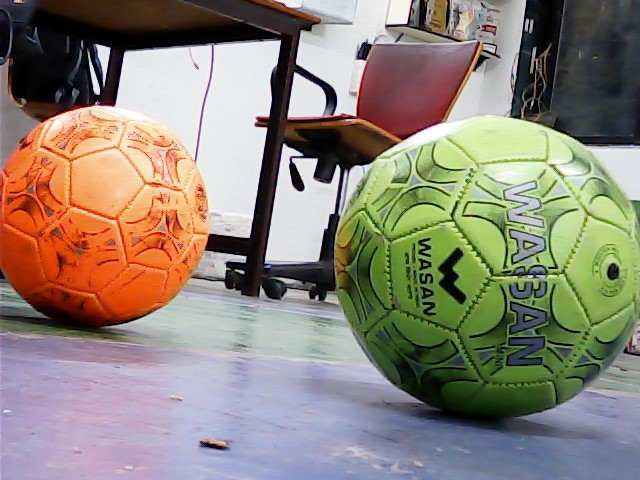Green_ball: (330, 109, 640, 419)
Orange_ball: (2, 101, 219, 318)
